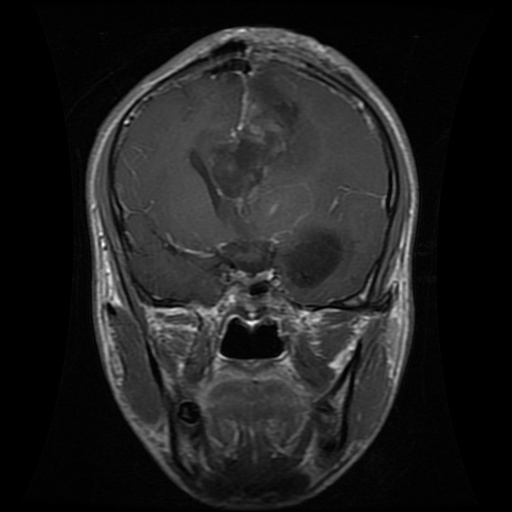glioma: (188, 65, 318, 222)
